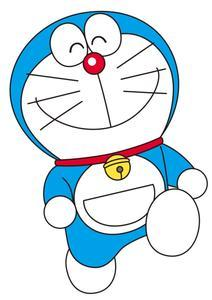Doraemon: (1, 7, 206, 289)
